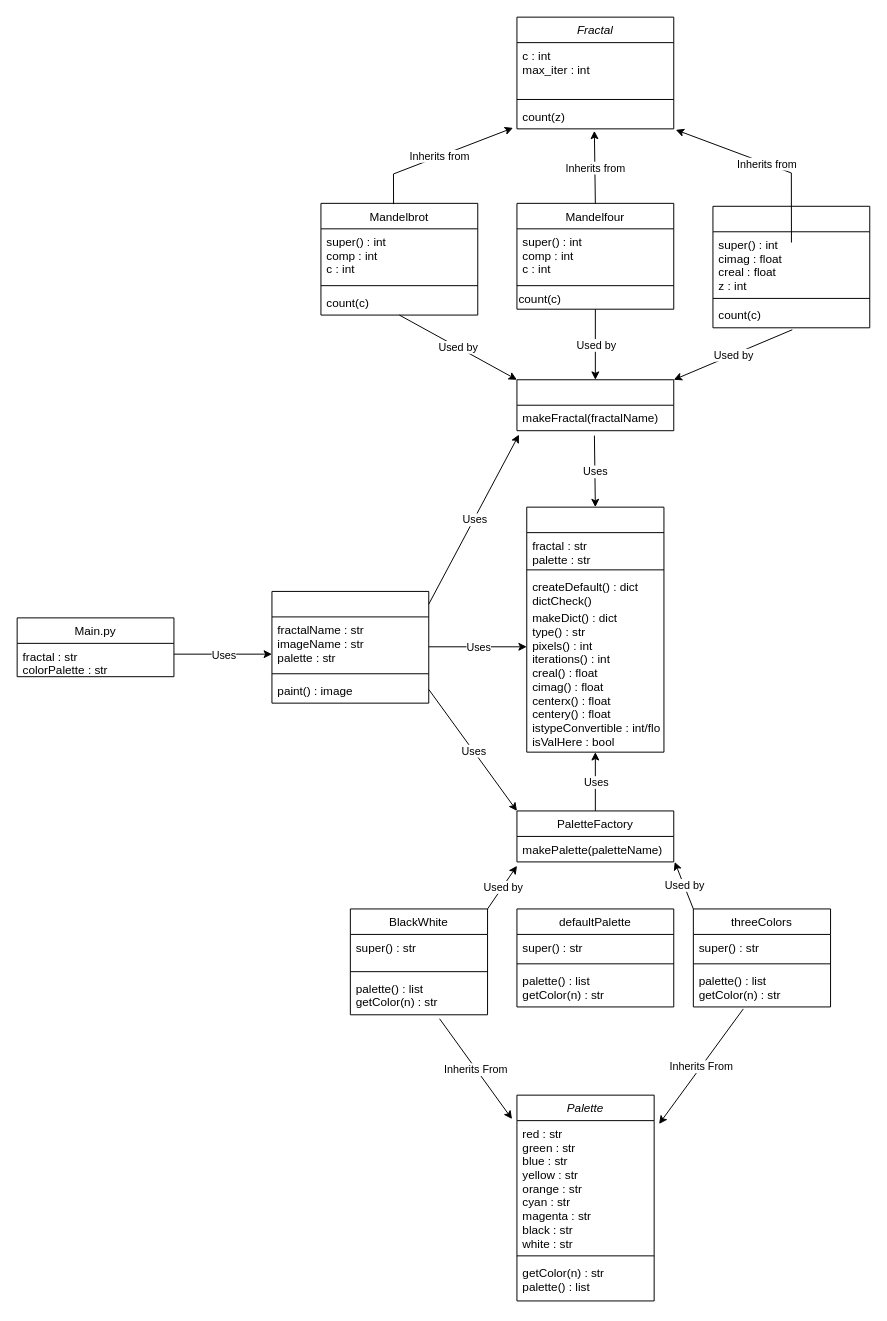
The diagram is 887 pixels wide and 1321 high, and some of its shapes have lost their labels. The box of each missing label's shape, as (x1, y1, x2, y2) in pixels:
FractalFactory: (516, 379, 674, 431)
FractalParser: (526, 506, 664, 752)
ImagePainter: (271, 590, 429, 703)
Julia: (712, 205, 870, 328)
